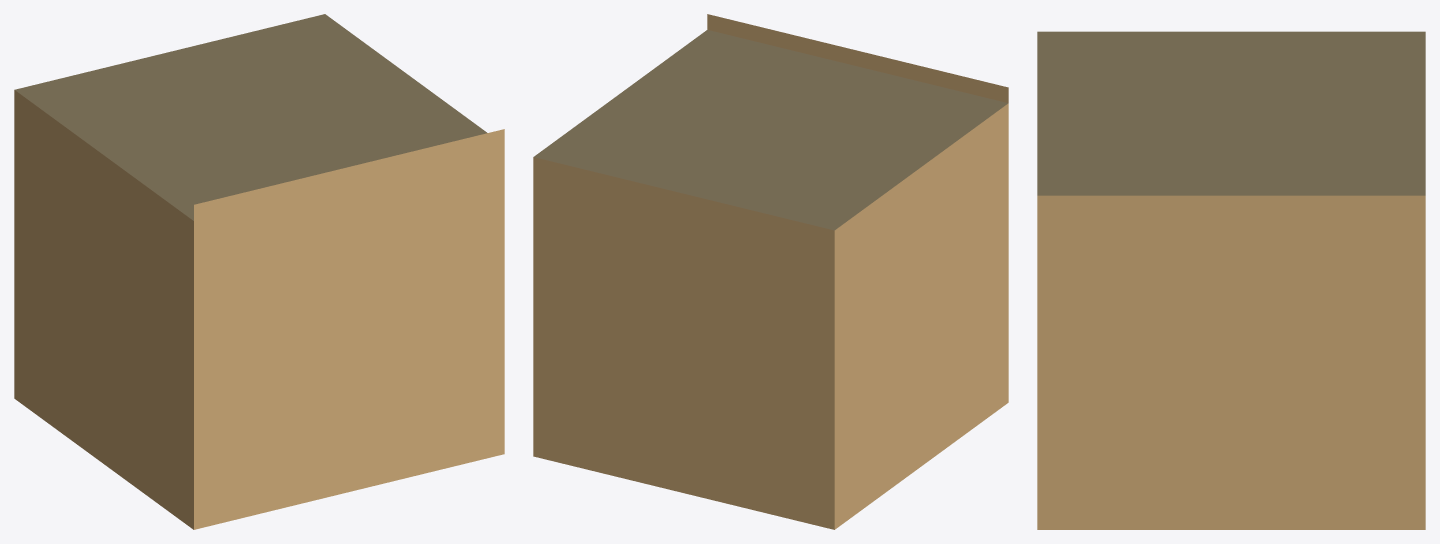
The picture shows the model from 3 angles, left to right: view 1: azimuth 30°, elevation 25°; view 2: azimuth 150°, elevation 25°; view 3: azimuth 270°, elevation 25°; orthographic projection. The views are drawn at different scales.
Parts seen in each view (by area): view 1: Cube, Plane; view 2: Cube, Plane; view 3: Cube.
Part boxes in pixels (x1=…): Cube: x1=14, y1=14, x2=504, y2=529; Plane: x1=194, y1=129, x2=504, y2=220; Cube: x1=533, y1=30, x2=1008, y2=529; Plane: x1=707, y1=14, x2=1008, y2=102; Cube: x1=1037, y1=31, x2=1425, y2=529.
Bounding box in the file's own units: 2 × 2 × 2.
